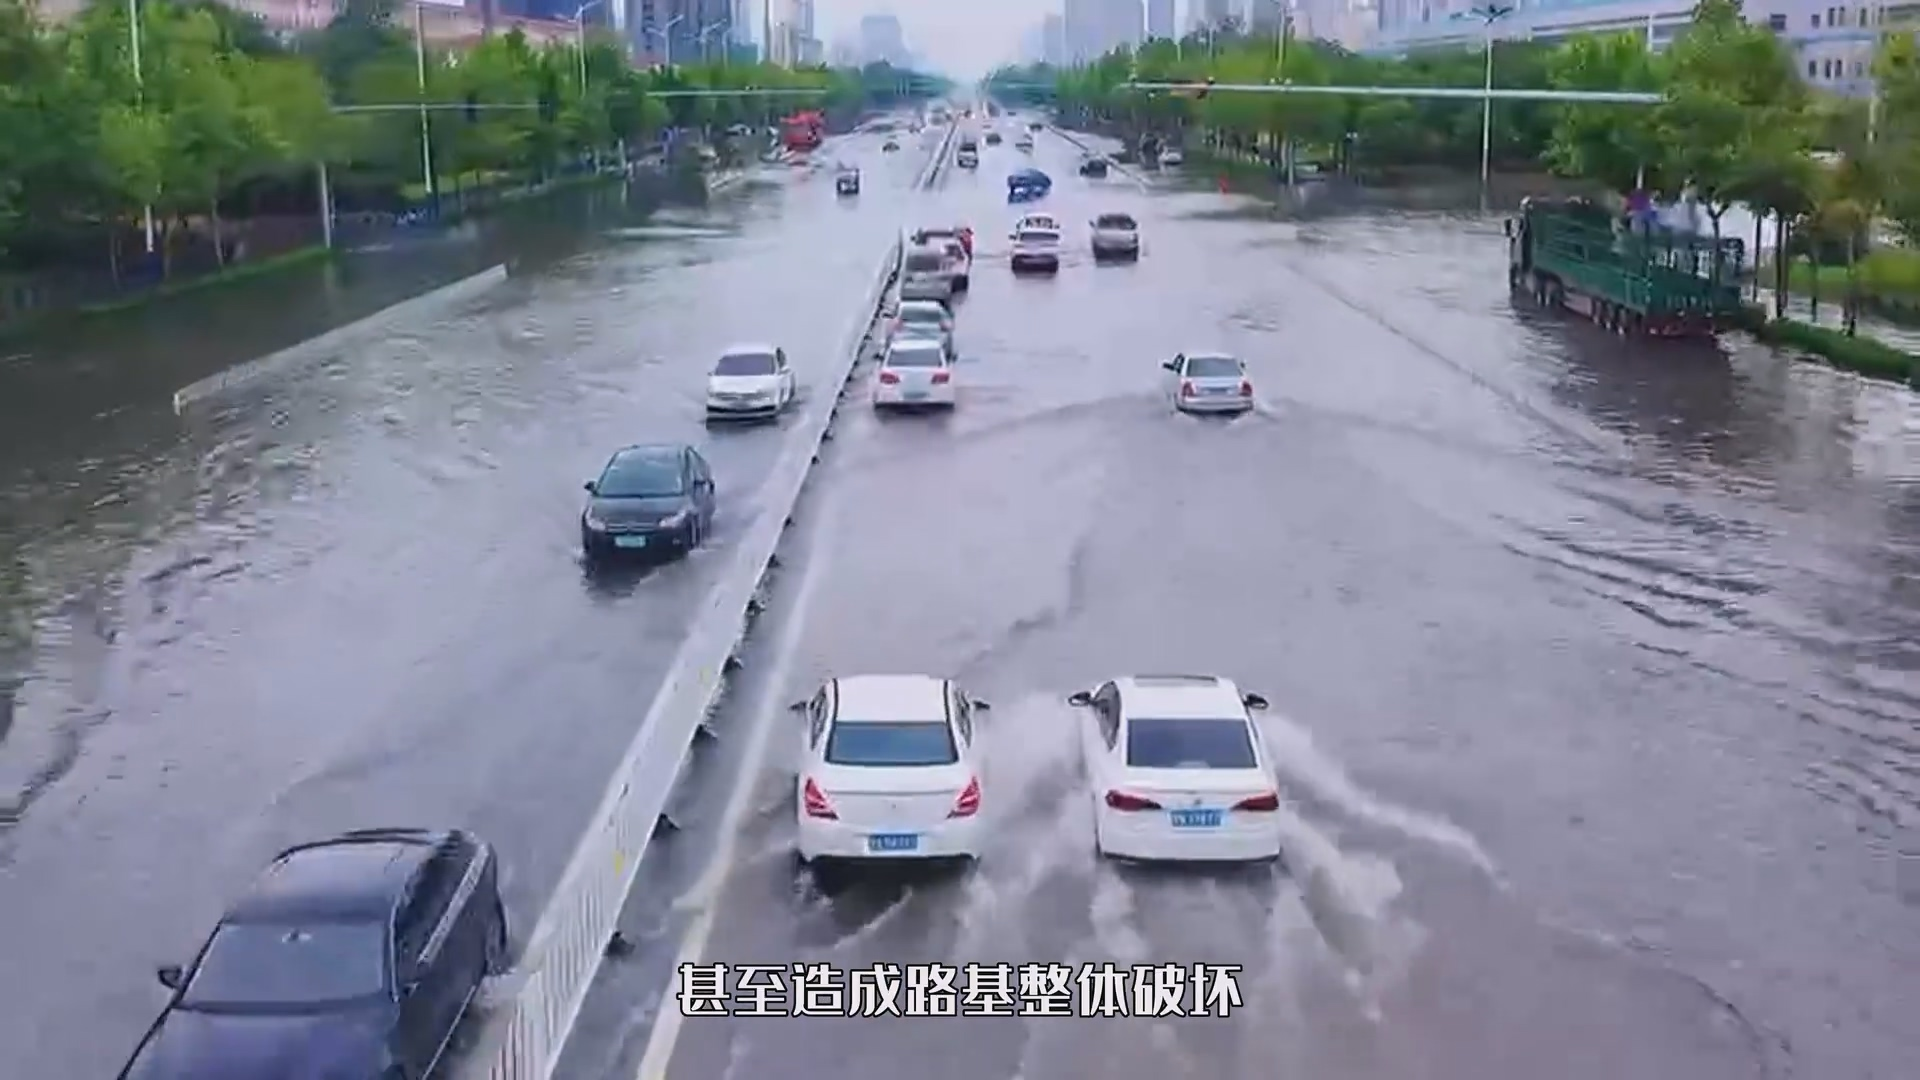puddle: (1, 285, 1917, 1056)
